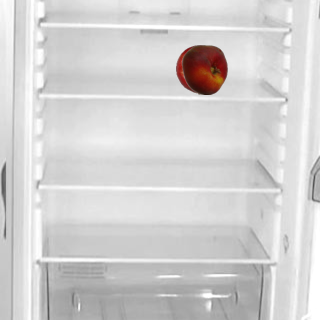Apple Braeburn: (175, 44, 225, 94)
Nectarine Flat: (179, 44, 229, 94)
